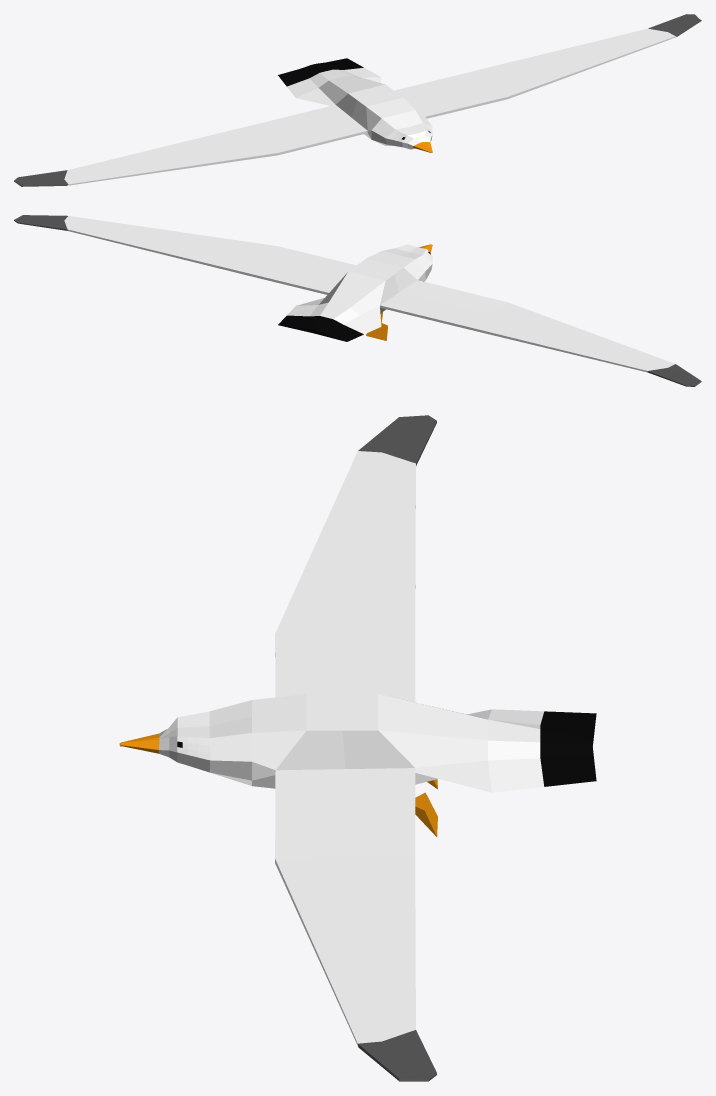
The model's file is seagull-low-poly.obj.
3 views of the same model, one above another, from view 1: azimuth 30°, elevation 25°; view 2: azimuth 150°, elevation 25°; view 3: azimuth 270°, elevation 25° (orthographic). The views are drawn at different scales.
Visible parts, largest first — view 1: Cube; view 2: Cube; view 3: Cube.
Boxes of the visible parts, box(x1,y1,x2,y2) form: Cube: box(14, 14, 701, 186); Cube: box(14, 215, 701, 386); Cube: box(119, 415, 596, 1081).
Size of the model in its own units: 153 by 9.82 by 46.29.
1 material, 1 textured.
